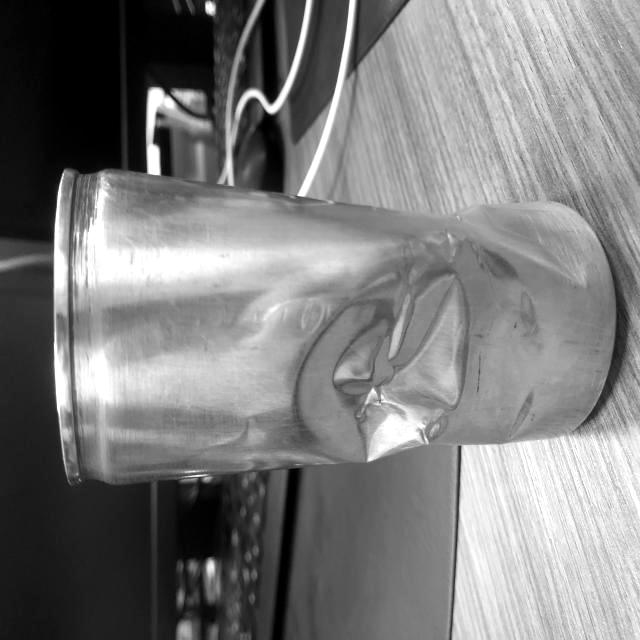deform: (283, 227, 472, 462)
metal: (56, 162, 624, 494)
